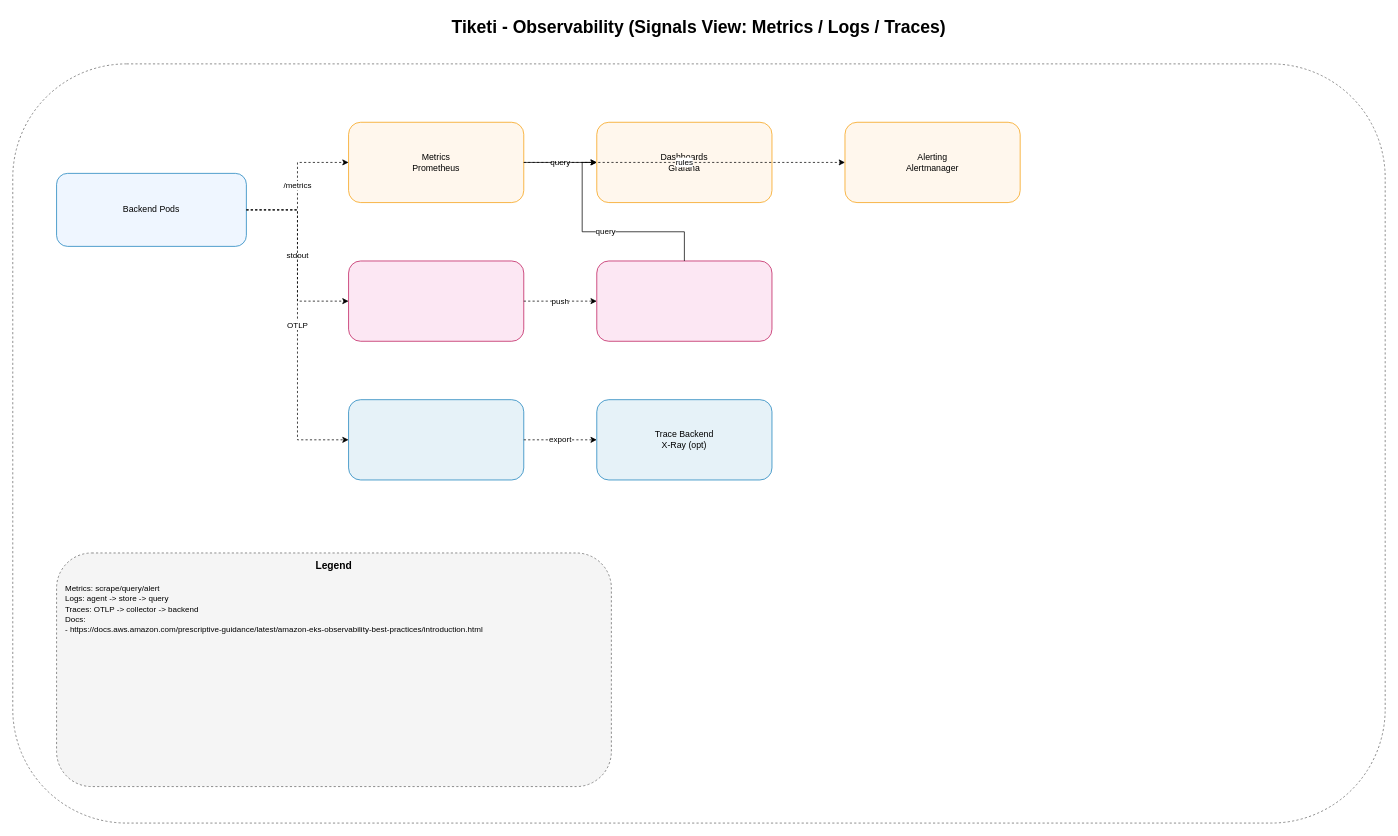
Some shapes in this 1398 by 836 pixel diagram are drawn without their labels. Here are the shapes that lost their labels. From the top down, the box of each, then its label:
(348, 260, 524, 341): Logs Agent Promtail/FluentBit
(596, 260, 772, 341): Logs Store Loki
(348, 399, 524, 480): Traces OTel Collector (ADOT)
